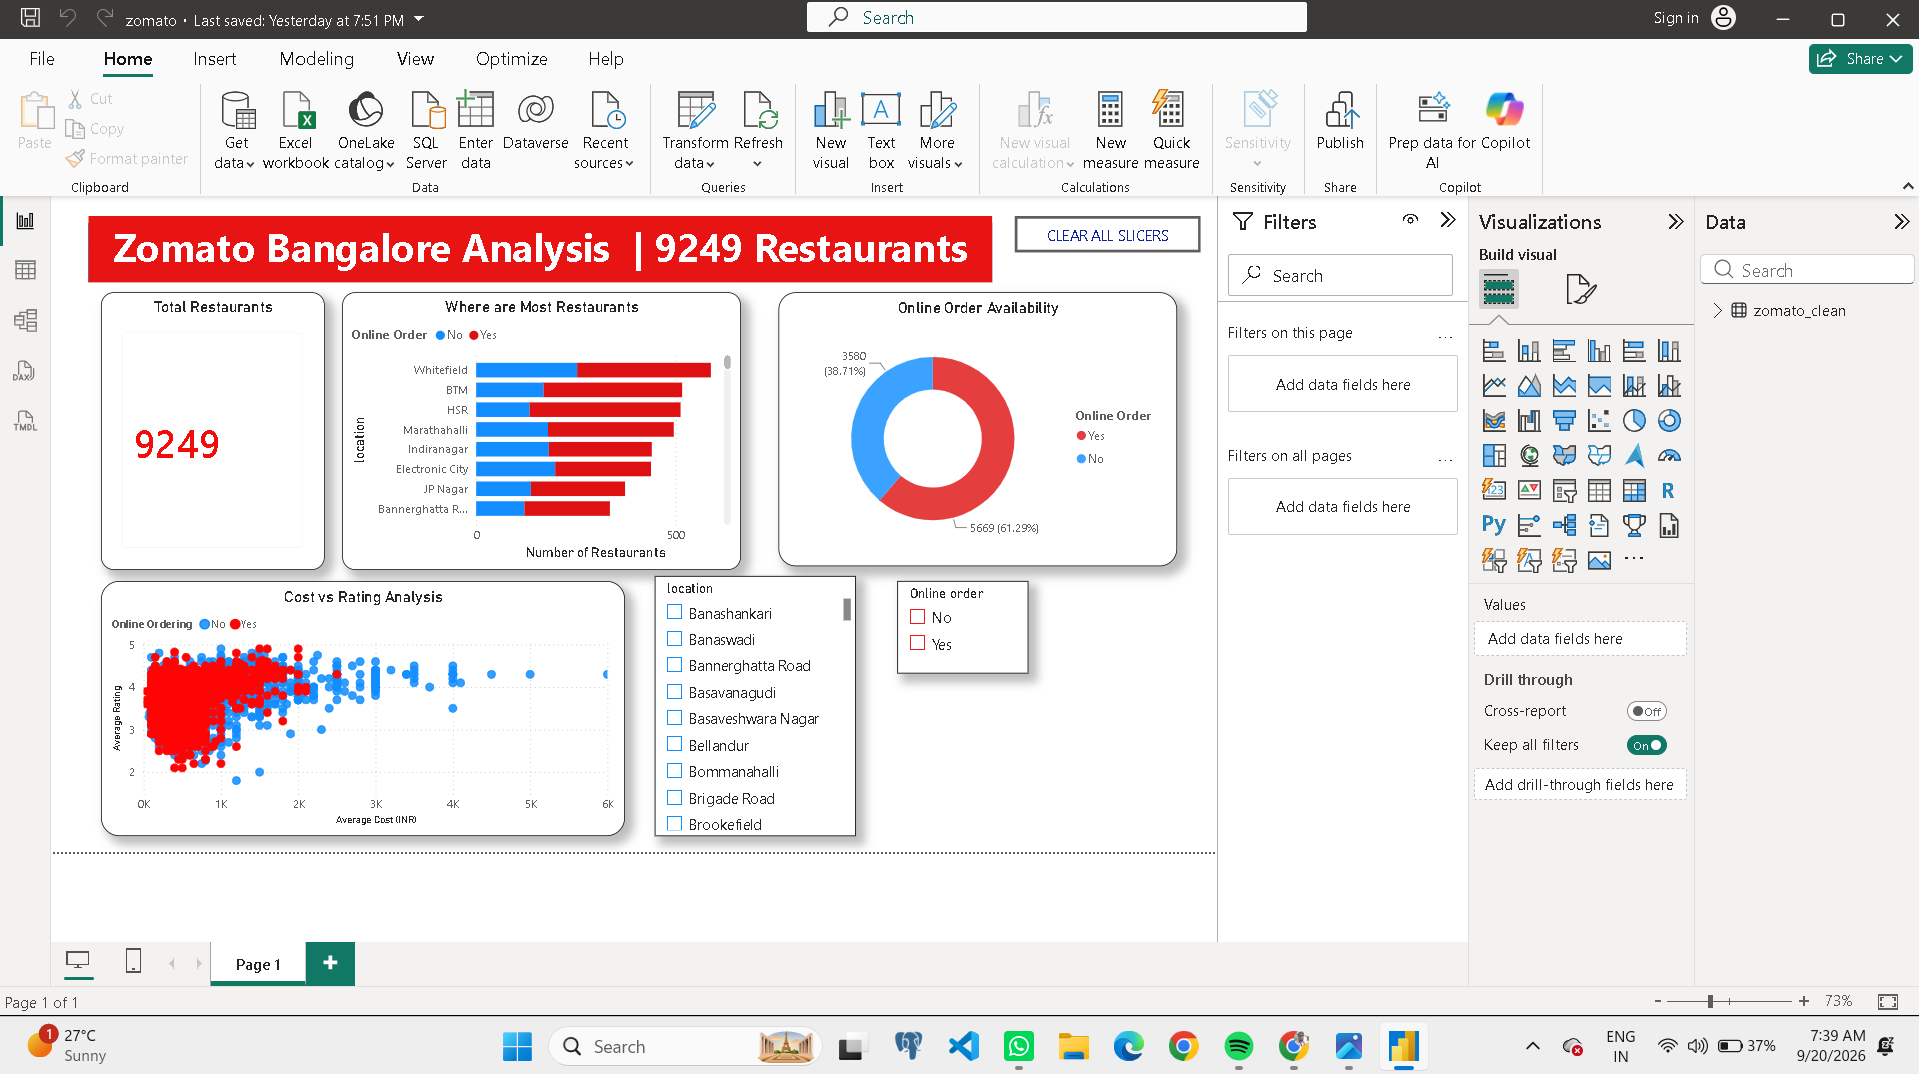

The dashboard page shown, as its layout file describes it:
{"tool":"powerbi","page":{"name":"Page 1","canvas":[1280,720],"ordinal":0},"visuals":[{"type":"cardVisual","title":"Total Restaurants","fields":{"Data":["CountNonNull(zomato_clean.name)"]},"box":[54.9,105.7,245.6,304.6],"z":0},{"type":"barChart","title":"Where are Most Restaurants","fields":{"Category":["zomato_clean.location"],"Y":["CountNonNull(zomato_clean.name)"],"Series":["zomato_clean.online_order"]},"box":[319.7,105.7,437.7,304.6],"z":1000},{"type":"donutChart","title":"Online Order Availability","fields":{"Category":["zomato_clean.online_order"],"Y":["CountNonNull(zomato_clean.name)"]},"box":[798.6,105.7,437.7,300.5],"z":2000},{"type":"scatterChart","title":"Cost vs Rating Analysis","fields":{"X":["Avg(zomato_clean.cost)"],"Y":["Avg(zomato_clean.rate)"],"Category":["zomato_clean.name"],"Series":["zomato_clean.online_order"]},"box":[54.9,422.6,575,279.9],"z":3000},{"type":"slicer","fields":{"Values":["zomato_clean.location"]},"box":[662.8,417.2,220.9,285.4],"z":4000},{"type":"actionButton","box":[1058.6,21.4,204.3,40],"z":5000},{"type":"slicer","fields":{"Values":["zomato_clean.online_order"]},"box":[929,422.6,144.1,101.5],"z":6000},{"type":"shape","title":"z","box":[41.2,4.1,992.1,90.6],"z":7000},{"type":"textbox","box":[41.2,22,992.1,72.7],"z":8000}]}

Visuals, with their boxes on the page's 1280x720 design canvas (x1, y1, x2, y2). These are canvas units, not pixel positions in the 1919x1074 screenshot, which may show the page scaled, cropped or inside an application window:
"Total Restaurants" cardVisual: 55, 106, 300, 410
"Where are Most Restaurants" barChart: 320, 106, 757, 410
"Online Order Availability" donutChart: 799, 106, 1236, 406
"Cost vs Rating Analysis" scatterChart: 55, 423, 630, 702
slicer - zomato_clean.location: 663, 417, 884, 703
actionButton: 1059, 21, 1263, 61
slicer - zomato_clean.online_order: 929, 423, 1073, 524
"z" shape: 41, 4, 1033, 95
textbox: 41, 22, 1033, 95
